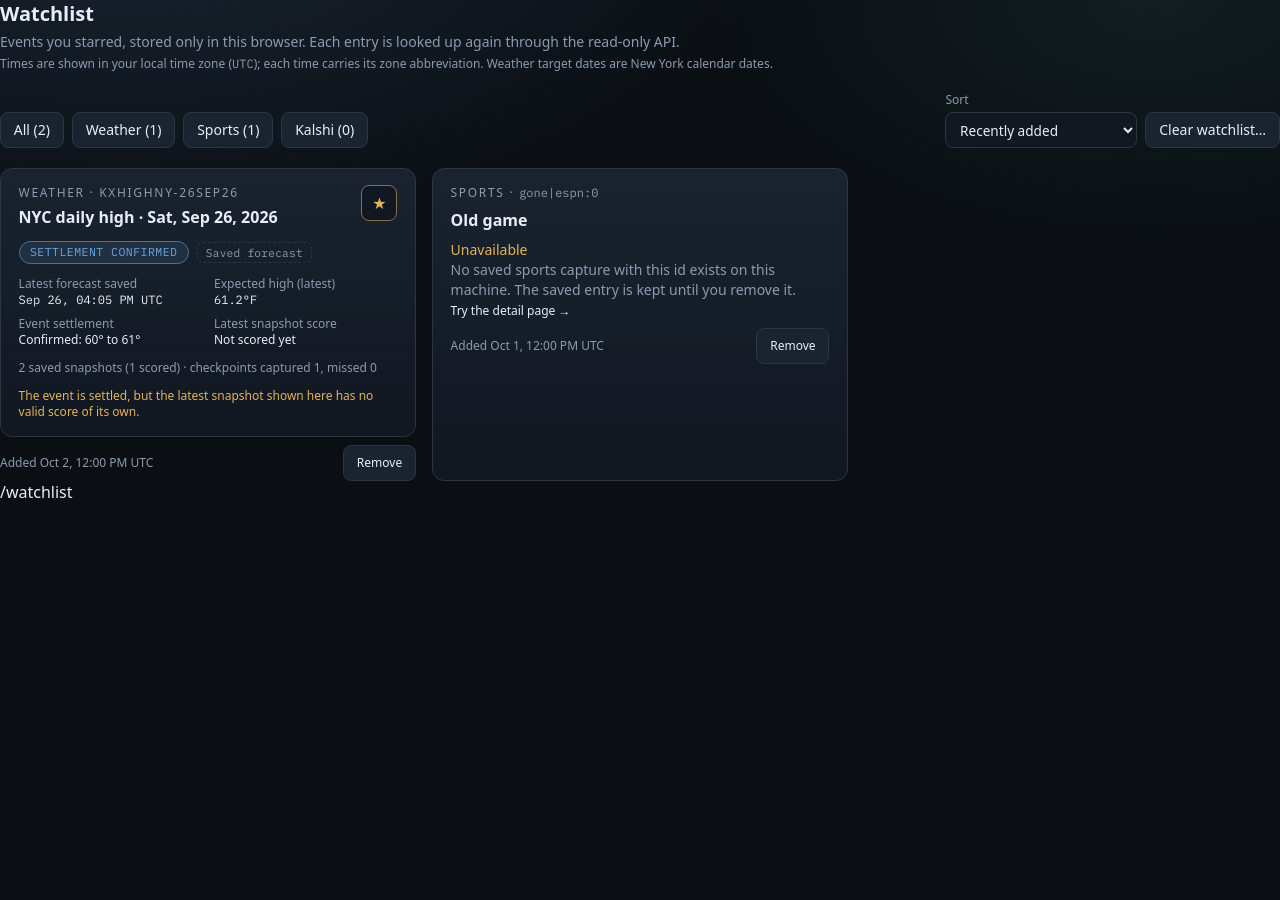
Test: Watchlist page › clears the whole list only after confirmation
Click the button "Clear watchlist…". click: (1213, 130)
box: x1=1145 y1=112 x2=1279 y2=148
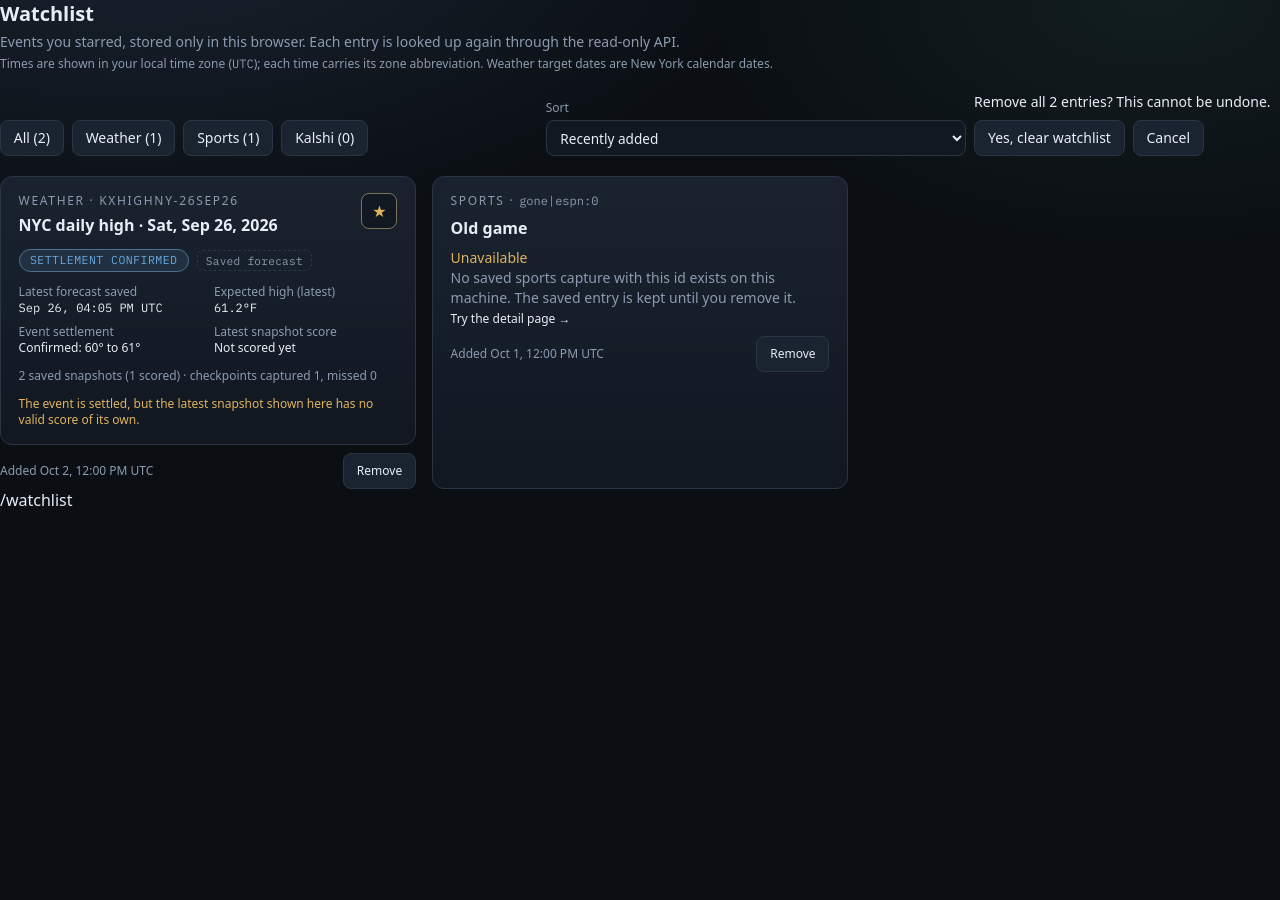
Expected: the dialog shows "Remove all 2 entries?", x1=974 y1=92 x2=1279 y2=156
Click the button "Cancel". click: (1168, 138)
box: x1=1133 y1=120 x2=1204 y2=156
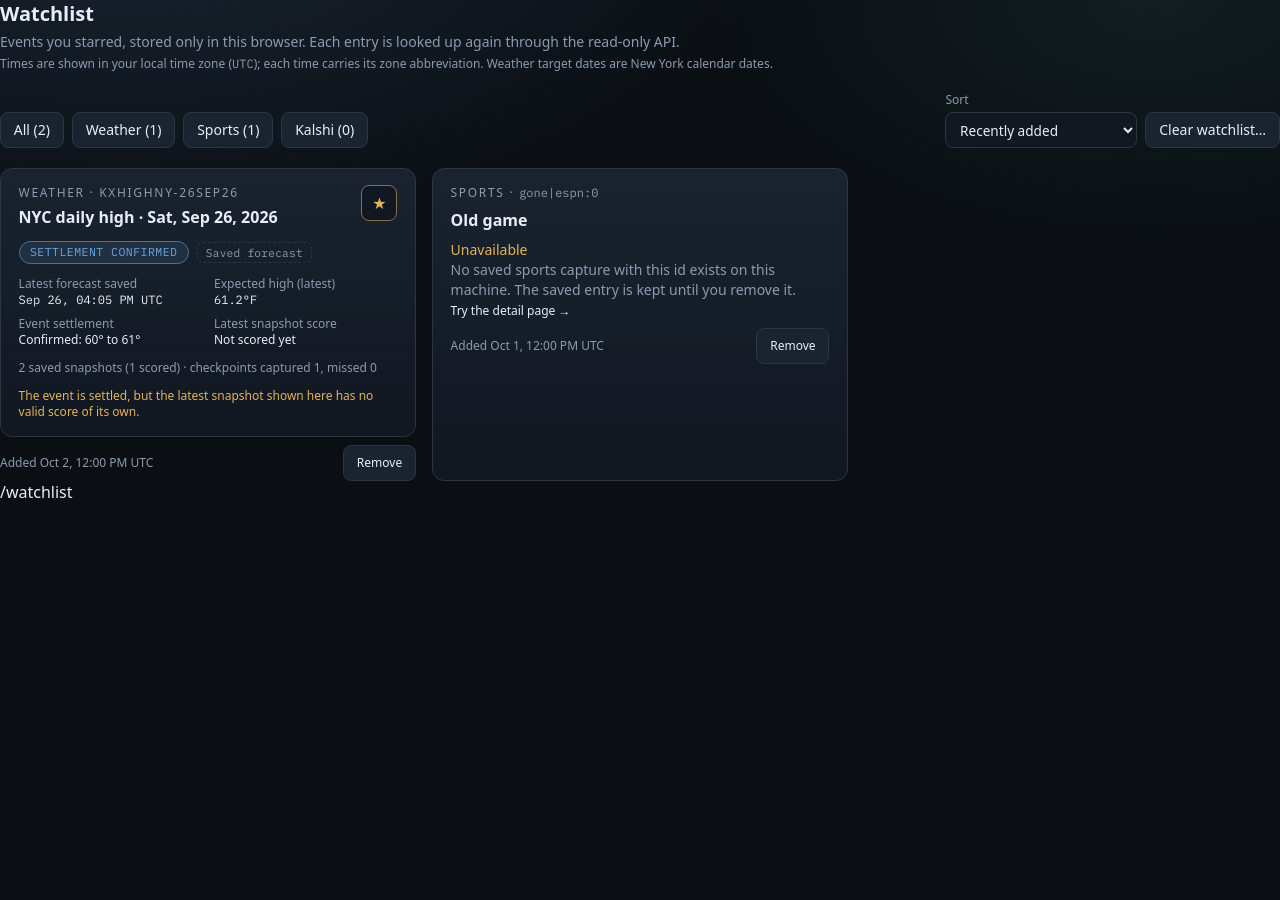
Click the button "Clear watchlist…". click: (1213, 130)
box: x1=1145 y1=112 x2=1279 y2=148
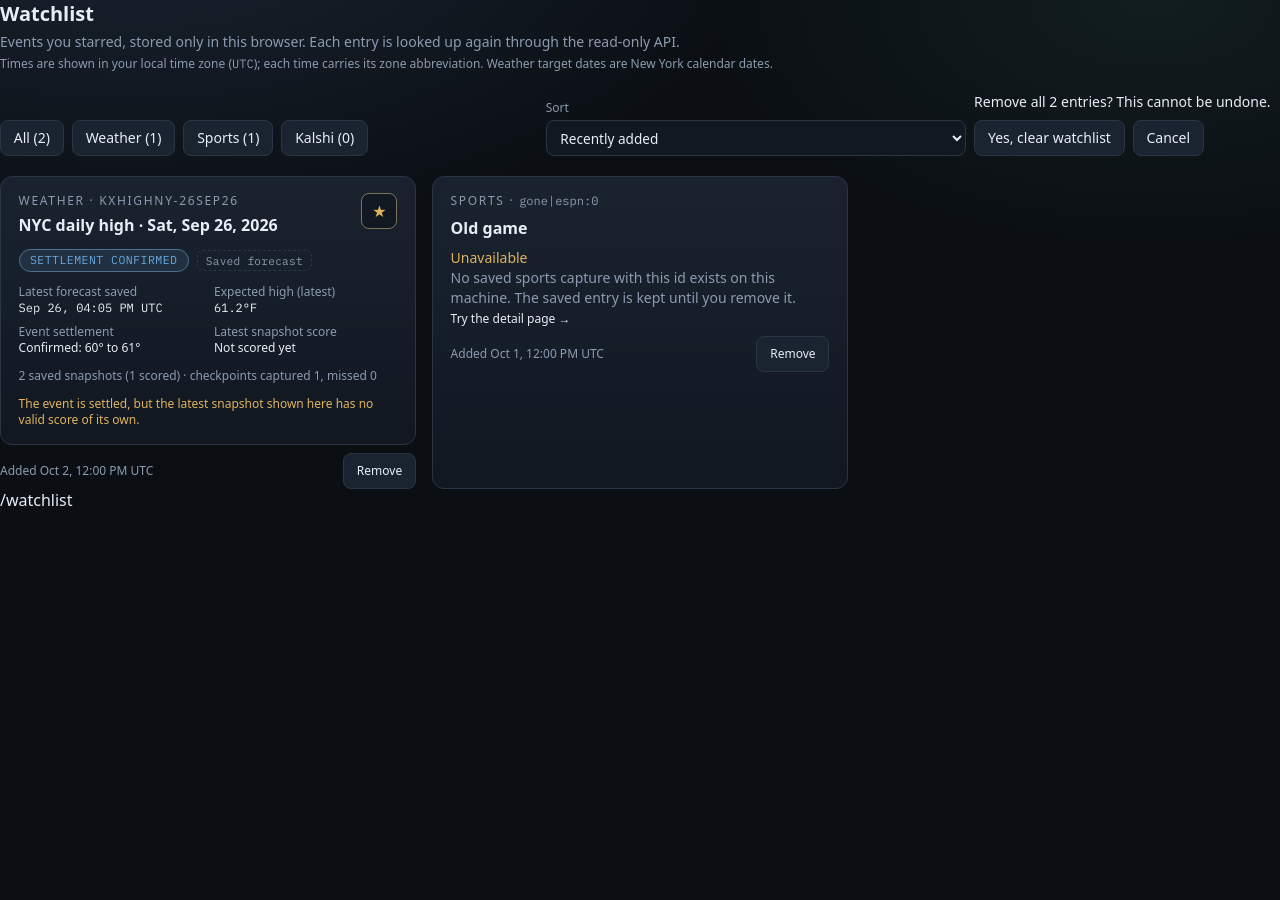
Click the button "Yes, clear watchlist". click: (1049, 138)
box: x1=974 y1=120 x2=1125 y2=156
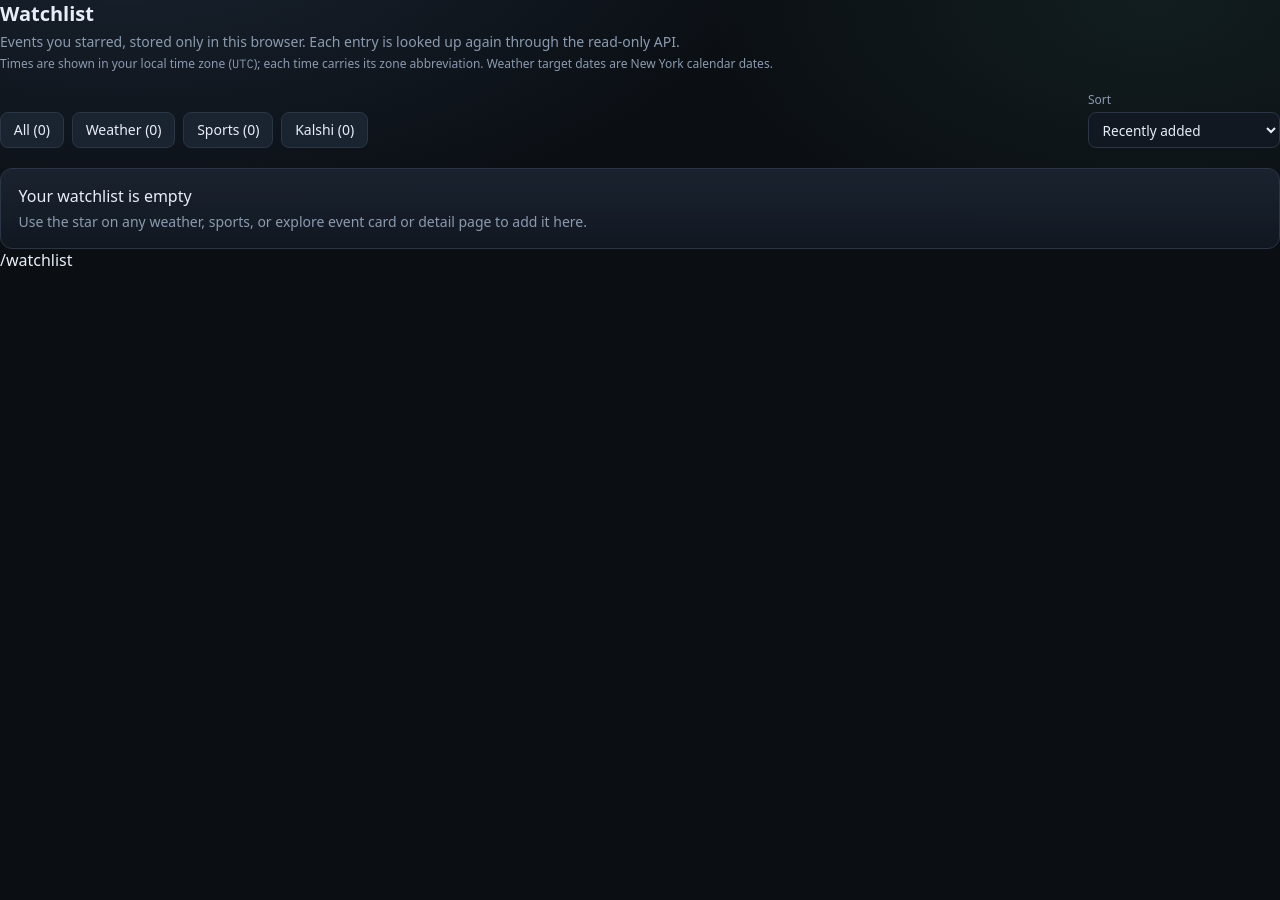
Expected: the text "Your watchlist is empty" is shown, x1=19 y1=185 x2=192 y2=207
